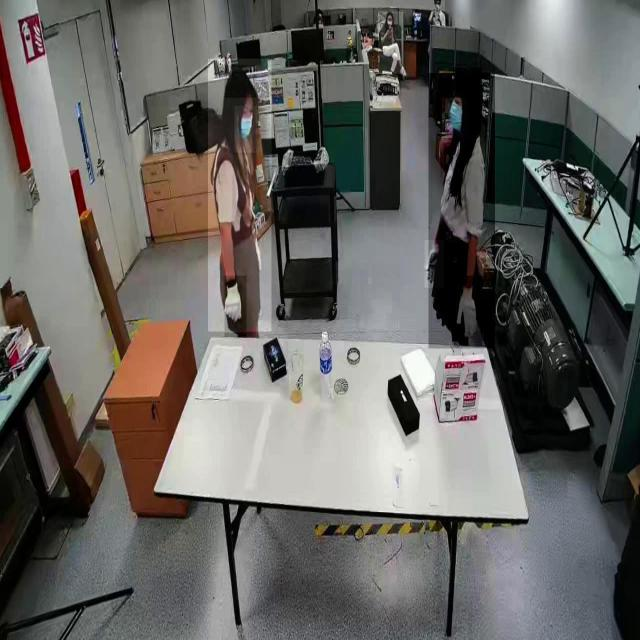face_mask: (442, 98, 468, 138), (235, 106, 257, 153), (386, 14, 396, 31), (434, 0, 442, 17)
hand_glove: (453, 276, 483, 348), (225, 276, 247, 338), (424, 240, 444, 289)
head_nohelmet: (225, 65, 257, 99), (453, 68, 482, 92), (386, 10, 394, 16)
person: (428, 73, 496, 349), (208, 59, 272, 332), (378, 12, 404, 74)
